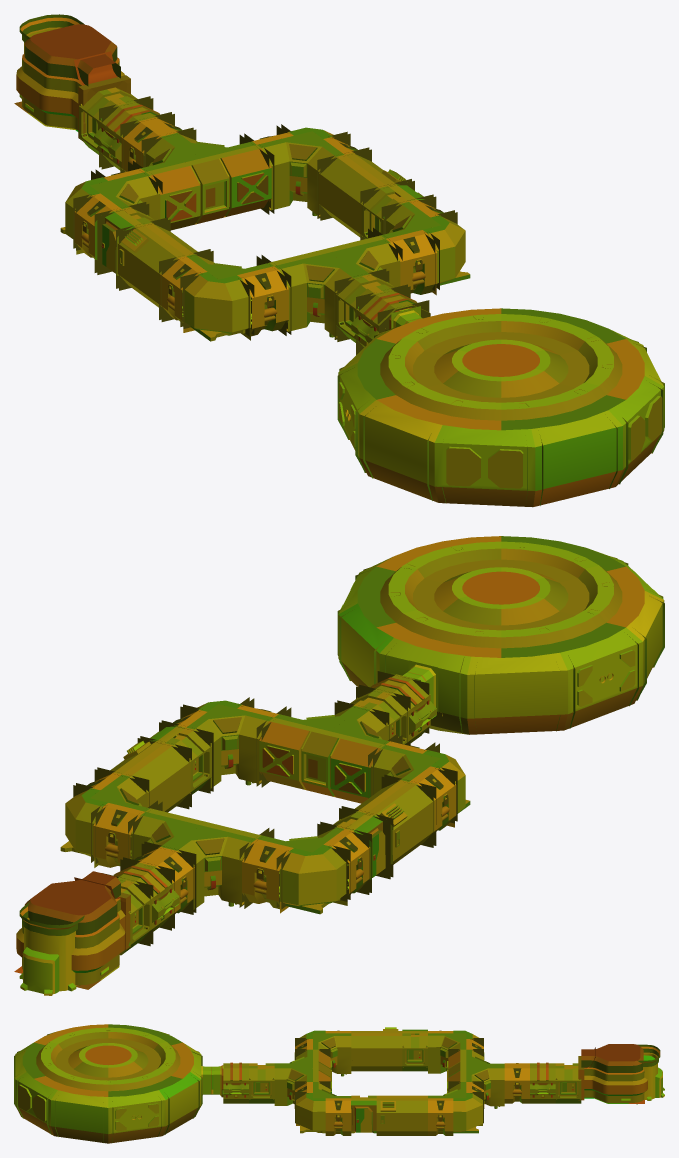
Rendered from level1.gltf.
3 views of the same model, one above another, from view 1: azimuth 30°, elevation 25°; view 2: azimuth 150°, elevation 25°; view 3: azimuth 270°, elevation 25° (orthographic). The views are drawn at different scales.
Parts seen in each view (by area): view 1: hub_room, engine_room, lower_elevator_room; view 2: hub_room, engine_room, lower_elevator_room; view 3: hub_room, engine_room, lower_elevator_room.
Boxes of the visible parts, box(x1,y1,x2,y2) form: hub_room: box(60, 87, 470, 354); engine_room: box(337, 300, 664, 507); lower_elevator_room: box(14, 14, 130, 141); hub_room: box(60, 674, 470, 955); engine_room: box(337, 536, 664, 734); lower_elevator_room: box(14, 871, 130, 995); hub_room: box(223, 1027, 581, 1135); engine_room: box(14, 1024, 223, 1143); lower_elevator_room: box(578, 1044, 664, 1104).
Size of the model in its own units: 15.29 by 5.06 by 50.94.
